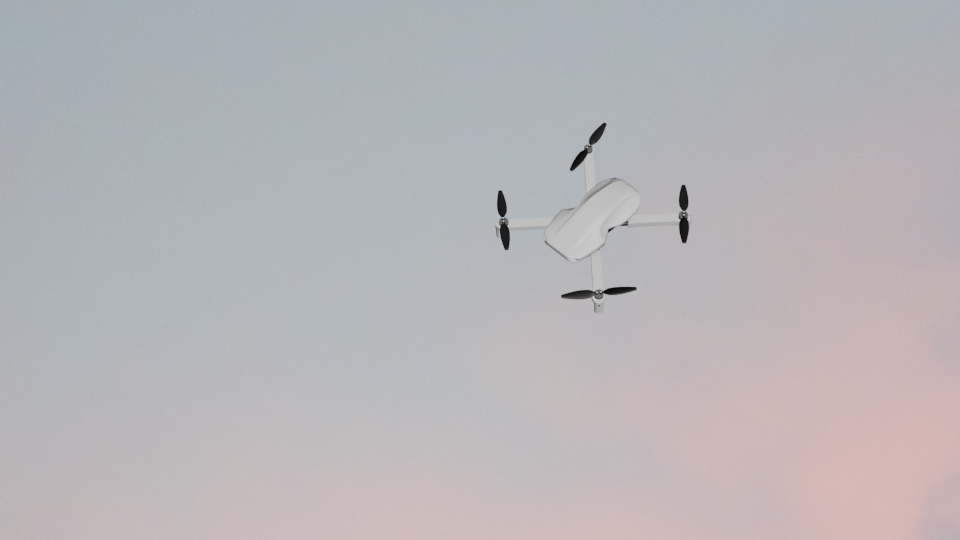drone: (492, 121, 693, 317)
